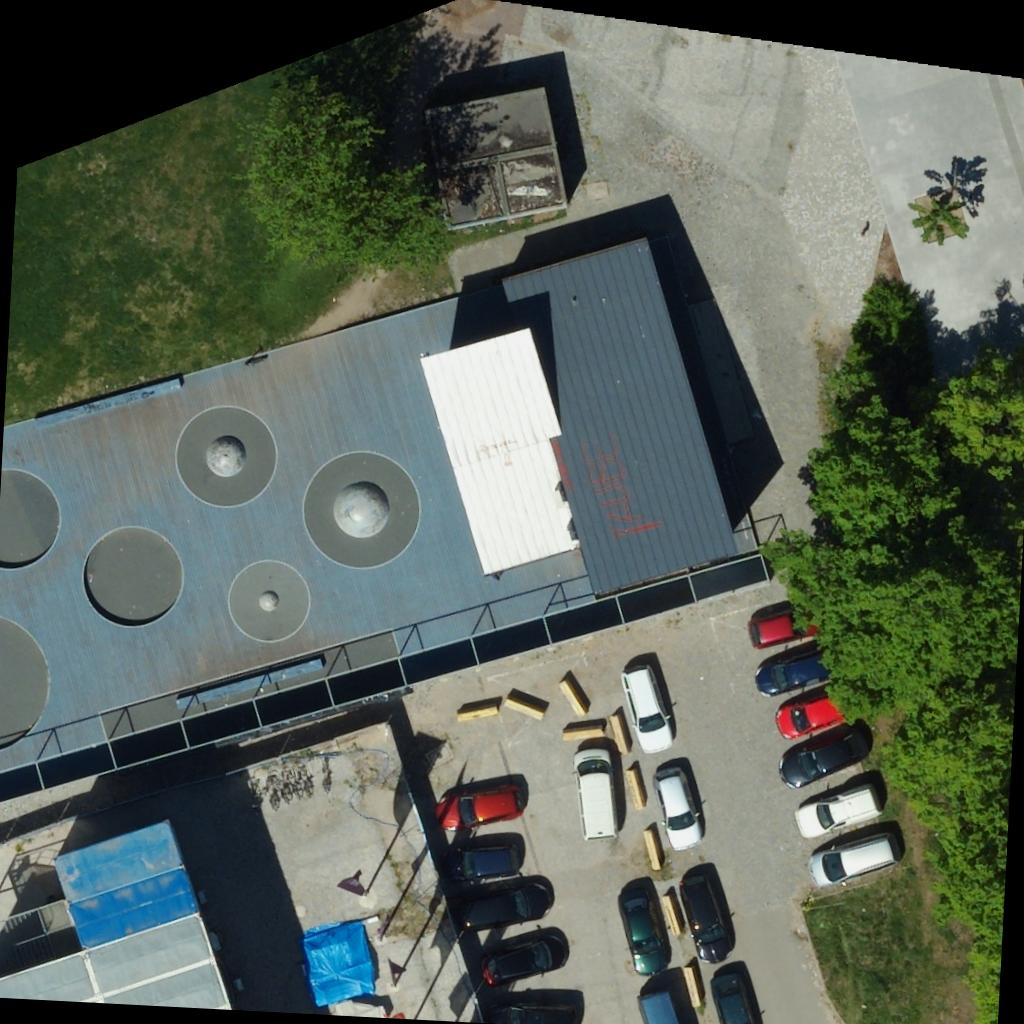samochod_osobowy: (779, 720, 869, 790), (614, 877, 674, 977), (481, 926, 569, 990), (458, 876, 554, 934), (809, 830, 901, 890), (676, 872, 736, 963), (794, 782, 882, 842), (618, 663, 676, 754), (436, 780, 524, 834), (652, 764, 706, 850), (571, 747, 620, 839), (755, 647, 828, 698), (444, 840, 522, 885), (776, 690, 845, 740), (748, 601, 816, 651), (710, 973, 760, 1024), (488, 999, 575, 1024), (638, 990, 684, 1024)
